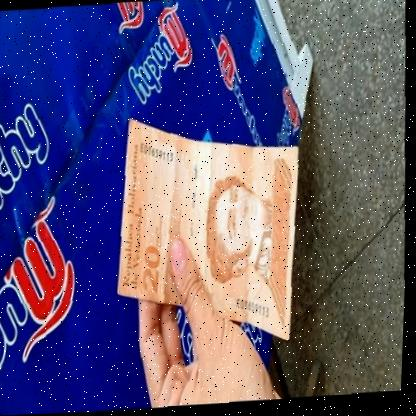twenty-front-vef: (114, 111, 304, 351)
